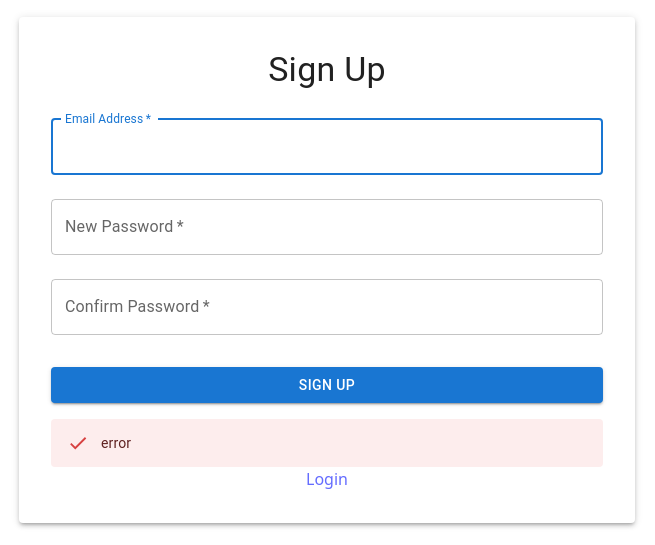
Scenario:  › should not signup then display an error message
Type "test@example.com" into the field labelled "Email Address *".
click(327, 147); type("test@example.com")  # box [51,119,603,175]
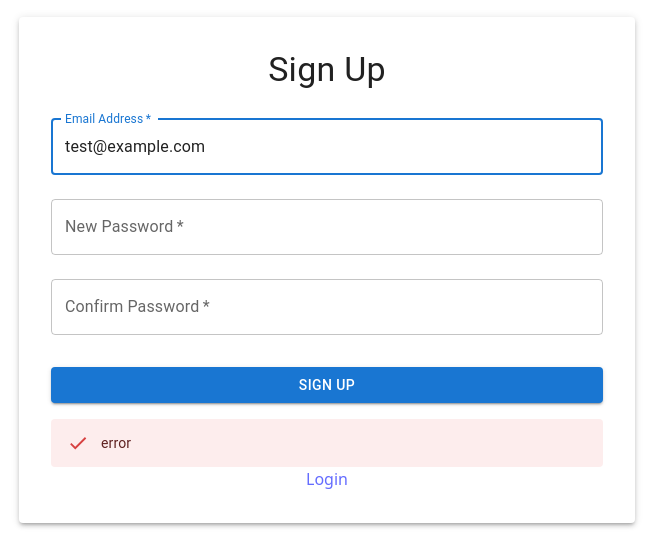
Type "pass" into the password field labelled "New Password *".
click(327, 227); type("pass")  # box [51,199,603,255]
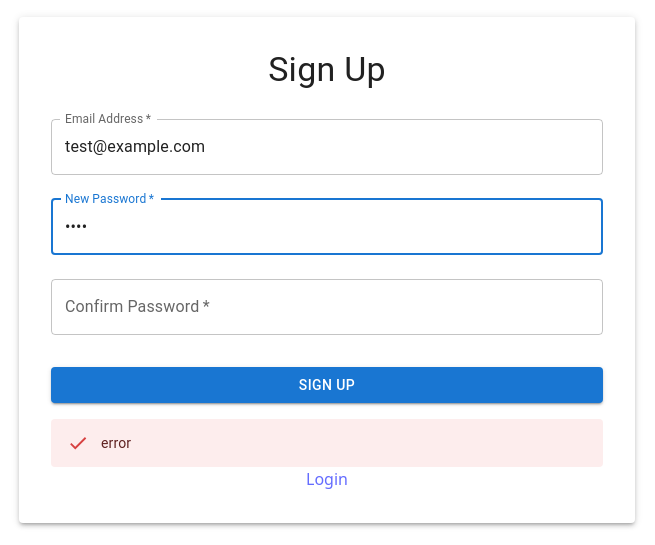
Type "pass" into the password field labelled "Confirm Password *".
click(327, 307); type("pass")  # box [51,279,603,335]
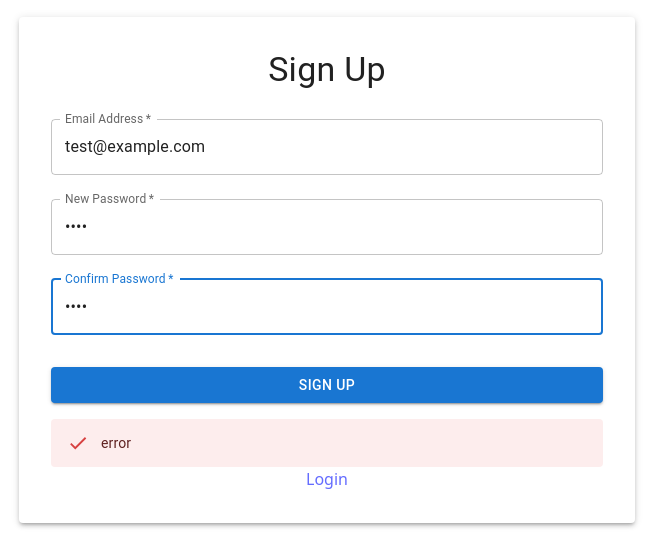
Click the button.
click(327, 385)  # box [51,367,603,403]
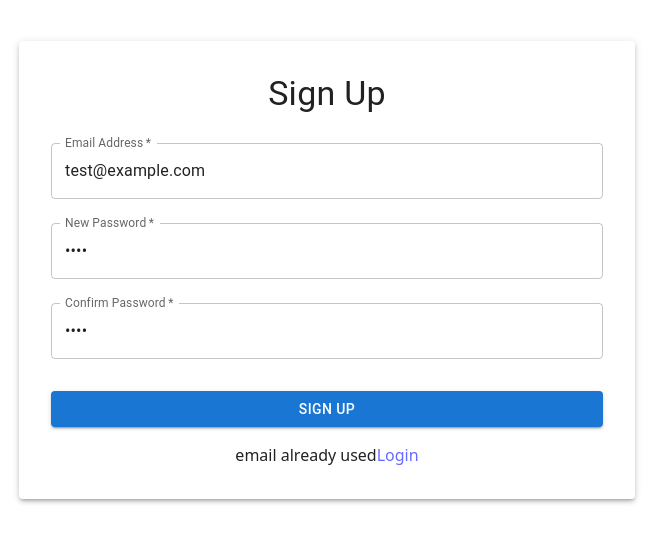
Expected: the text "email already used" is shown, [235,444,377,466]
